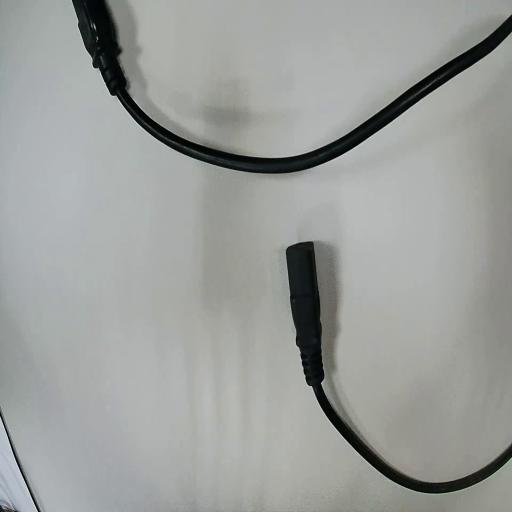wire: (73, 0, 511, 172), (287, 242, 511, 492)
